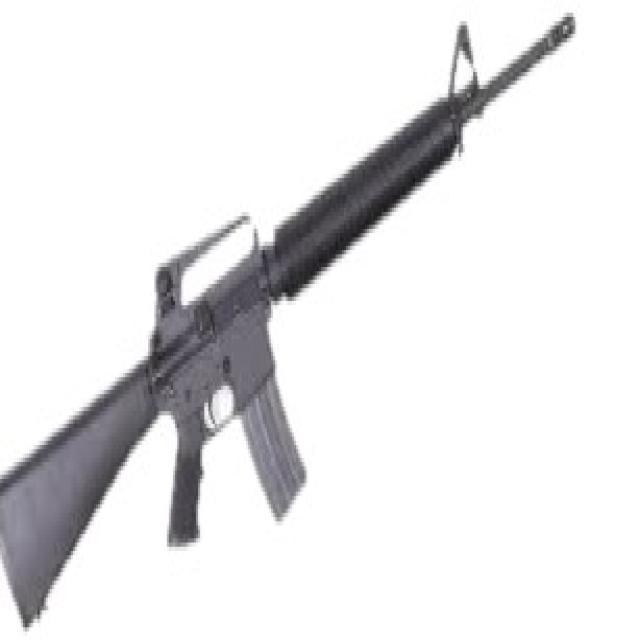rifle: (1, 9, 577, 640)
